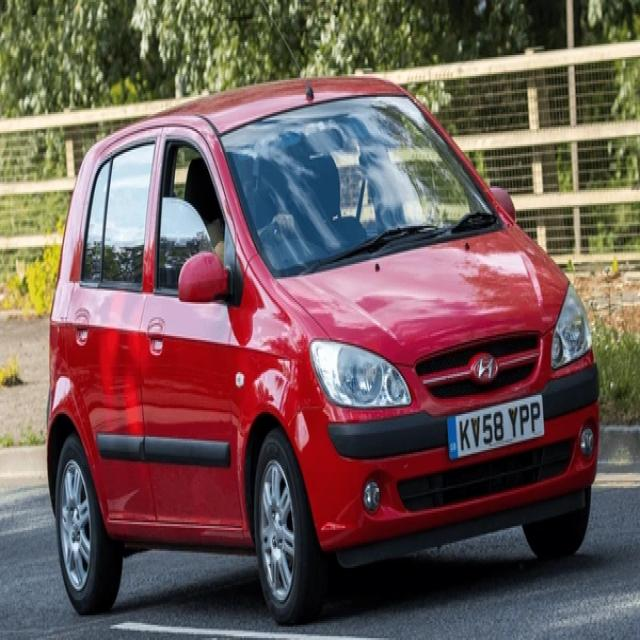hyundai: (472, 356, 498, 378)
